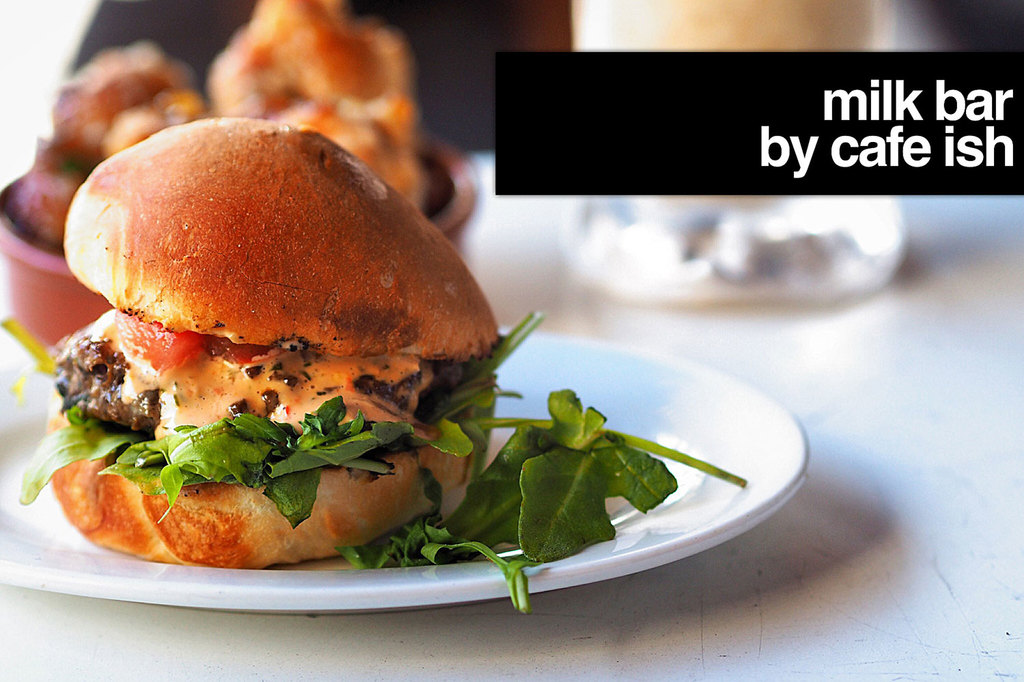Hamburger: (0, 117, 745, 613)
